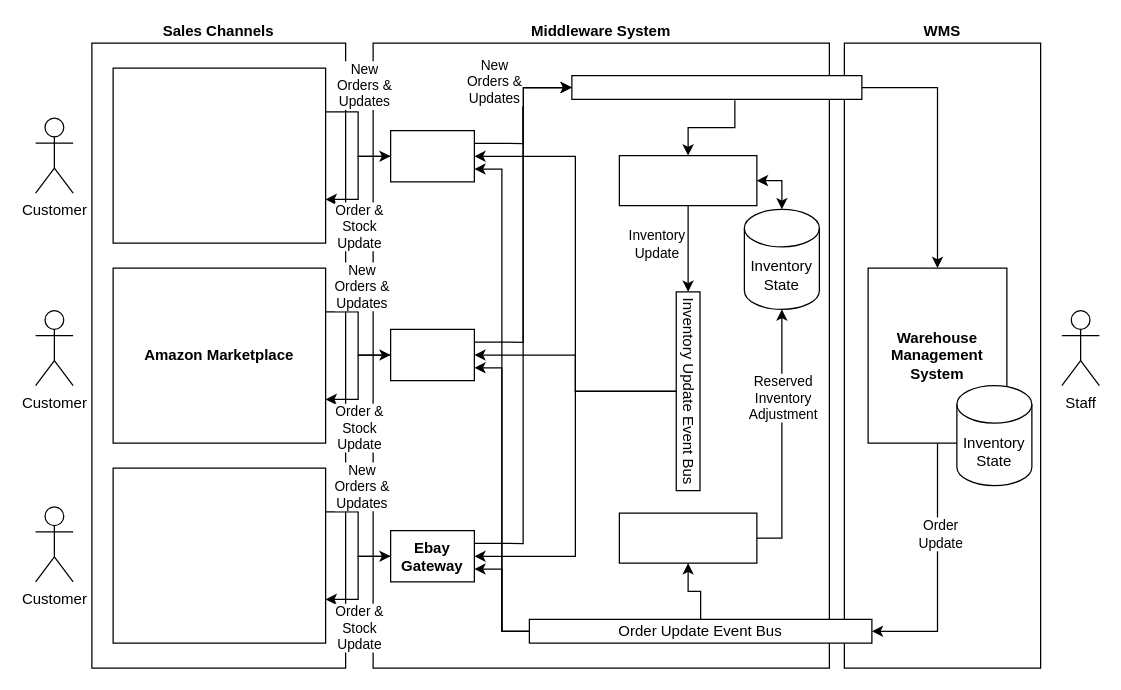
Image size: 1121x690. Some labels were removed from this diagram. Each missing label, with the centre of its shape:
Amazon Gateway: (x=431, y=354)
Ebay Marketplace: (x=219, y=555)
Incoming Order Event Bus: (x=716, y=86)
Online Storefront: (x=219, y=155)
OS Gateway: (x=431, y=155)
Stock Adjustment: (x=687, y=537)
Stock Reservation: (x=687, y=180)
